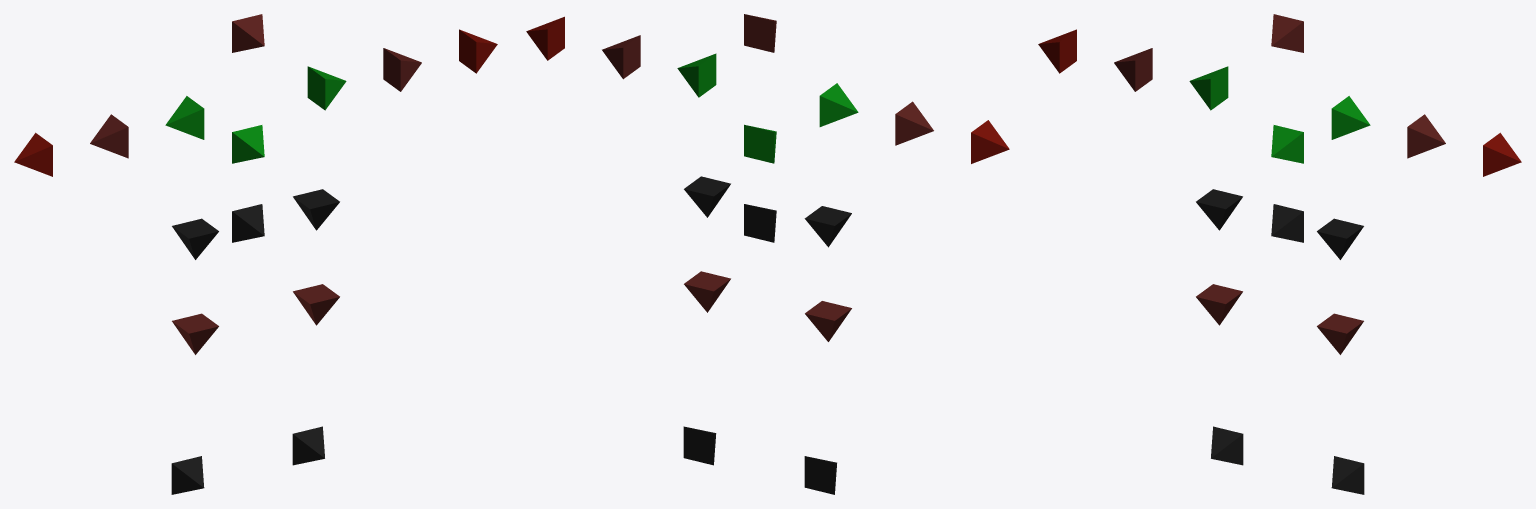
Rendered from Pseudojoints_ver01.fbx.
3 renders of one model, left to right at view 1: azimuth 30°, elevation 25°; view 2: azimuth 150°, elevation 25°; view 3: azimuth 330°, elevation 25°, orthographic.
Visible parts, largest first — view 1: Rikfoot0, Riarm0, Learm0, Lefoot0, Riebowl0, Lebowl0, Hip0, Leleg0, Rileg0, RIknees0, Leknees0, Chest0 (+3 smaller); view 2: Learm0, Lefoot0, Riarm0, Rikfoot0, Lebowl0, Riebowl0, Rileg0, Chest0, Head0, Leknees0, Hip0, Leleg0 (+3 smaller); view 3: Lefoot0, Learm0, Riarm0, Rikfoot0, Riebowl0, Lebowl0, Hip0, Rileg0, RIknees0, Leleg0, Leknees0, Chest0 (+3 smaller).
Part boxes in pixels (box(x1,y1,x2,y2)): Rikfoot0: box(171, 456, 204, 494); Riarm0: box(165, 96, 204, 139); Learm0: box(307, 66, 346, 110); Lefoot0: box(292, 426, 324, 465); Riebowl0: box(90, 114, 128, 158); Lebowl0: box(383, 48, 421, 91); Hip0: box(232, 204, 264, 242); Leleg0: box(293, 189, 339, 230); Rileg0: box(172, 218, 218, 259); RIknees0: box(172, 313, 218, 354); Leknees0: box(293, 284, 339, 325); Chest0: box(232, 125, 264, 163); Learm0: box(677, 53, 716, 97); Lefoot0: box(683, 426, 716, 465); Riarm0: box(819, 83, 858, 126); Rikfoot0: box(804, 456, 836, 494); Lebowl0: box(602, 35, 640, 79); Riebowl0: box(895, 101, 933, 145); Rileg0: box(804, 206, 851, 247); Chest0: box(744, 124, 776, 163); Head0: box(744, 14, 776, 52); Leknees0: box(684, 271, 730, 312); Hip0: box(744, 204, 776, 242); Leleg0: box(684, 176, 730, 217); Lefoot0: box(1331, 456, 1364, 494); Learm0: box(1331, 96, 1370, 139); Riarm0: box(1189, 66, 1228, 110); Rikfoot0: box(1211, 426, 1243, 465); Riebowl0: box(1114, 48, 1152, 91); Lebowl0: box(1407, 114, 1445, 158); Hip0: box(1271, 204, 1303, 242); Rileg0: box(1196, 189, 1242, 230); RIknees0: box(1196, 284, 1242, 325); Leleg0: box(1317, 218, 1363, 259); Leknees0: box(1317, 313, 1363, 354); Chest0: box(1271, 125, 1303, 163).
Size of the model in its own units: 32 by 29 by 2.
1 material, 1 textured.
